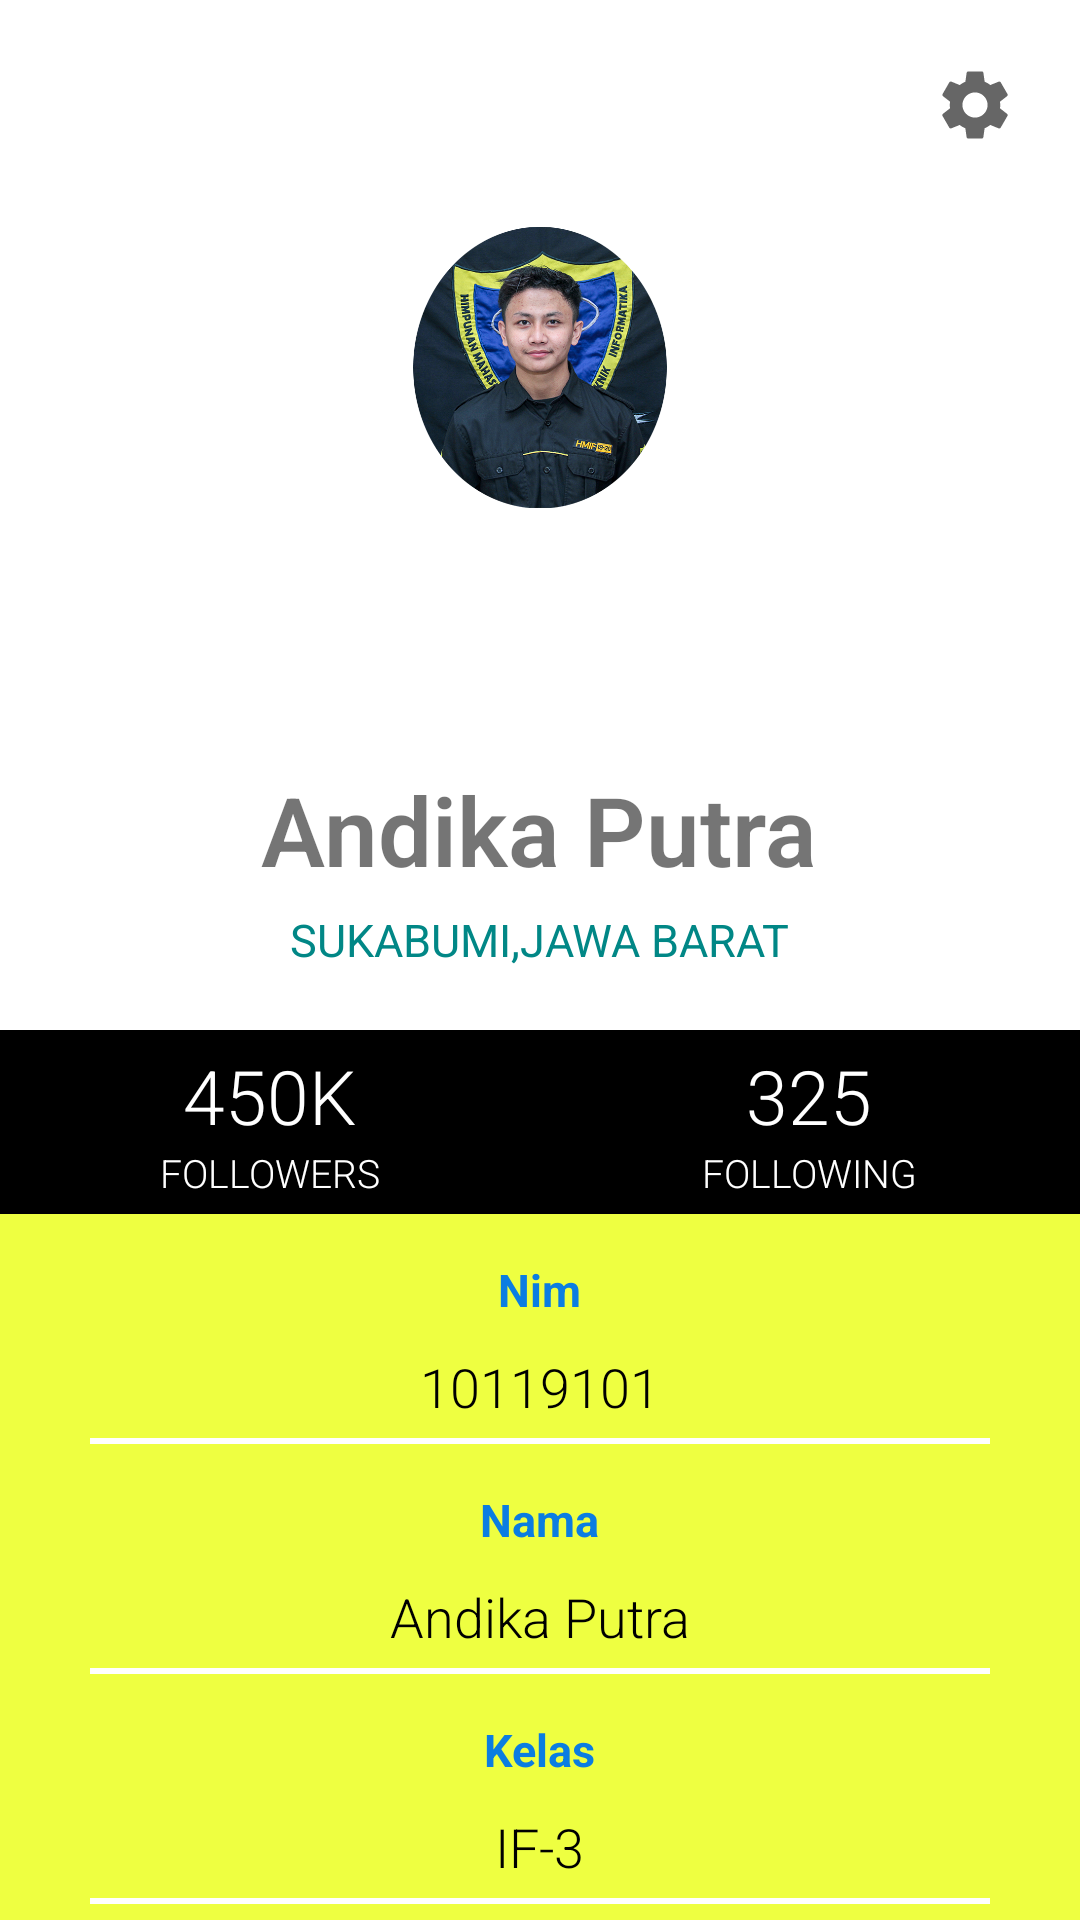

Screen size 1080px×1920px. Icon name, then its box in pixels as [left=x1, top=y1, right=x2, bottom=y2]:
profile: [left=413, top=227, right=667, bottom=508]
settings: [left=942, top=71, right=1008, bottom=139]
